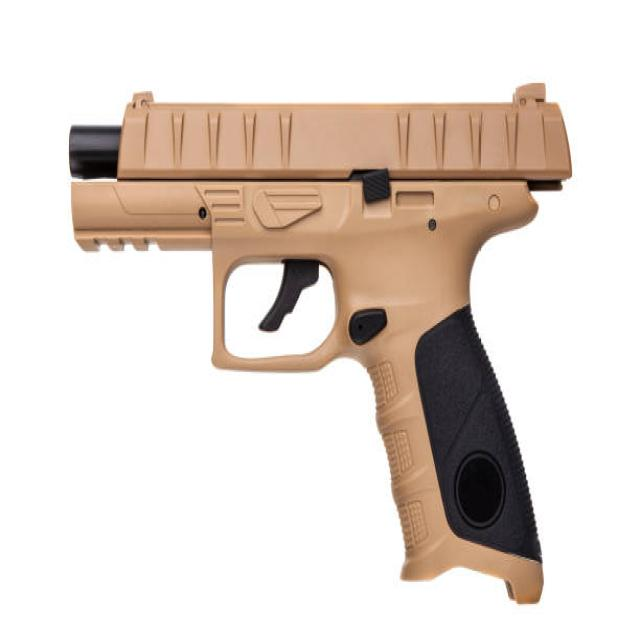pistol: (62, 73, 582, 605)
